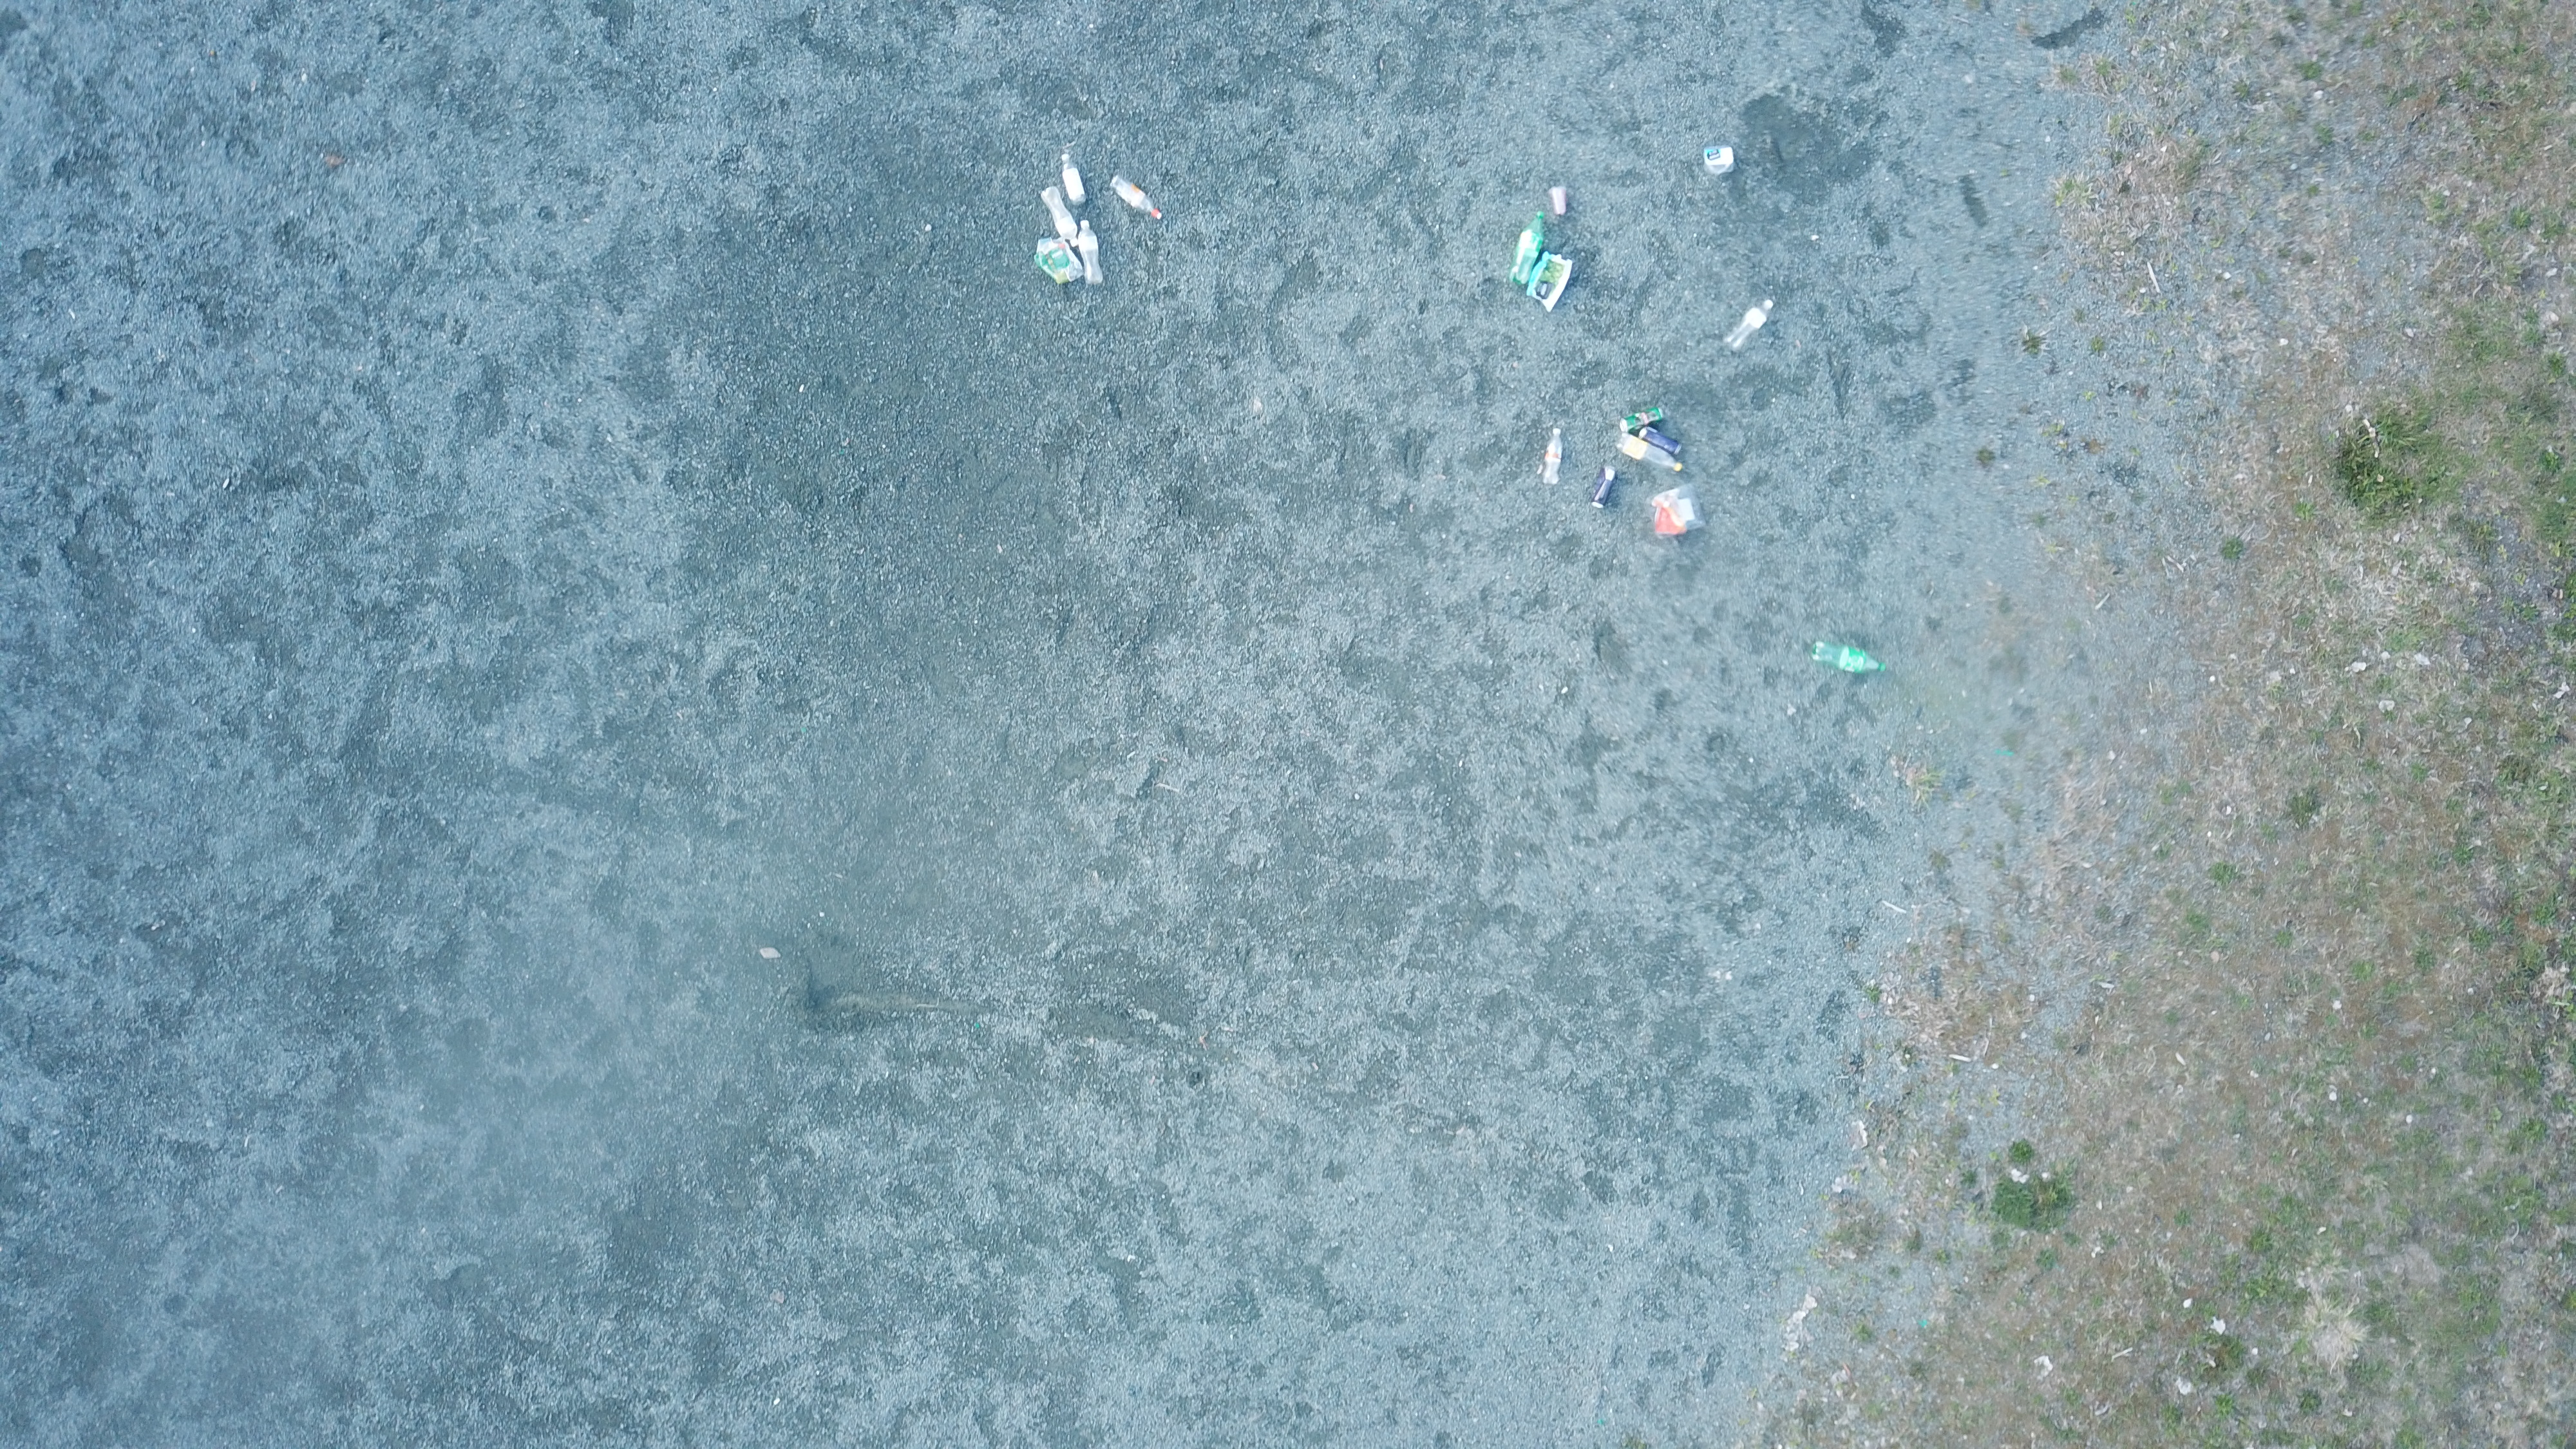Can: (1591, 465, 1619, 510), (1638, 426, 1681, 455), (1621, 407, 1663, 433)
Plastic: (1651, 483, 1709, 536), (1527, 251, 1575, 313), (1033, 237, 1086, 285), (1702, 147, 1736, 175), (1548, 186, 1568, 216)
PlasticBottle: (1723, 297, 1775, 354), (1812, 640, 1888, 676), (1615, 433, 1683, 472), (1111, 175, 1164, 221), (1511, 212, 1545, 285), (1040, 186, 1079, 248), (1077, 219, 1104, 287), (1062, 154, 1086, 205), (1543, 428, 1564, 485)
